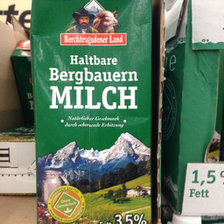milk: (30, 1, 153, 223)
